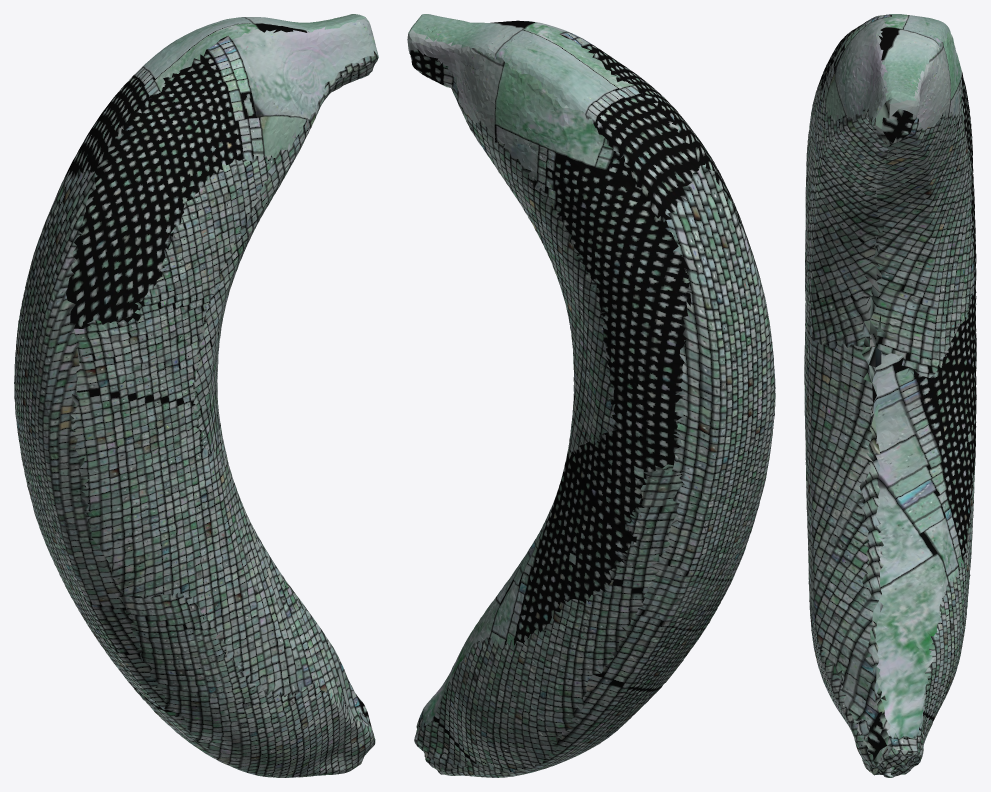
File: Aligned_obj.obj
The picture shows the model from 3 angles, left to right: view 1: azimuth 30°, elevation 25°; view 2: azimuth 150°, elevation 25°; view 3: azimuth 270°, elevation 25°; orthographic projection. The views are drawn at different scales.
Parts seen in each view (by area): view 1: xiangjiao.014; view 2: xiangjiao.014; view 3: xiangjiao.014.
Boxes of the visible parts, <box> form: xiangjiao.014: <box>14,14,378,777</box>; xiangjiao.014: <box>407,14,775,777</box>; xiangjiao.014: <box>804,14,976,777</box>.
Bounding box in the file's own units: 79.71 × 169 × 37.2.
